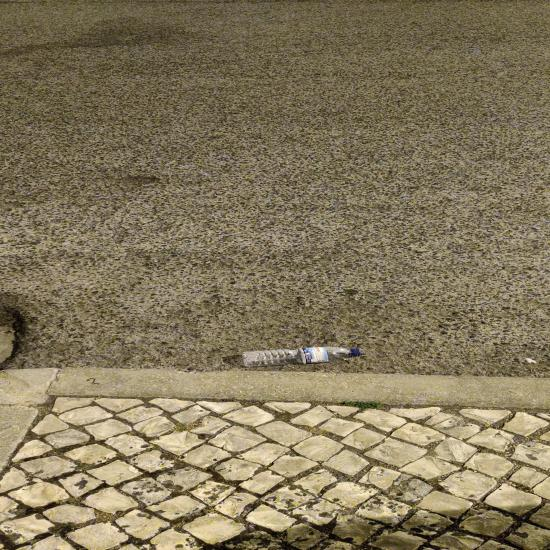Cigarette: (18, 528, 30, 538), (310, 498, 332, 503)
Drink carton: (432, 326, 516, 356)
Plastic straw: (435, 348, 443, 359)
